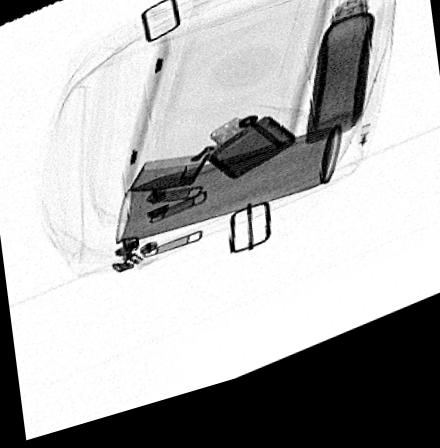Lighter: (128, 129, 296, 201)
